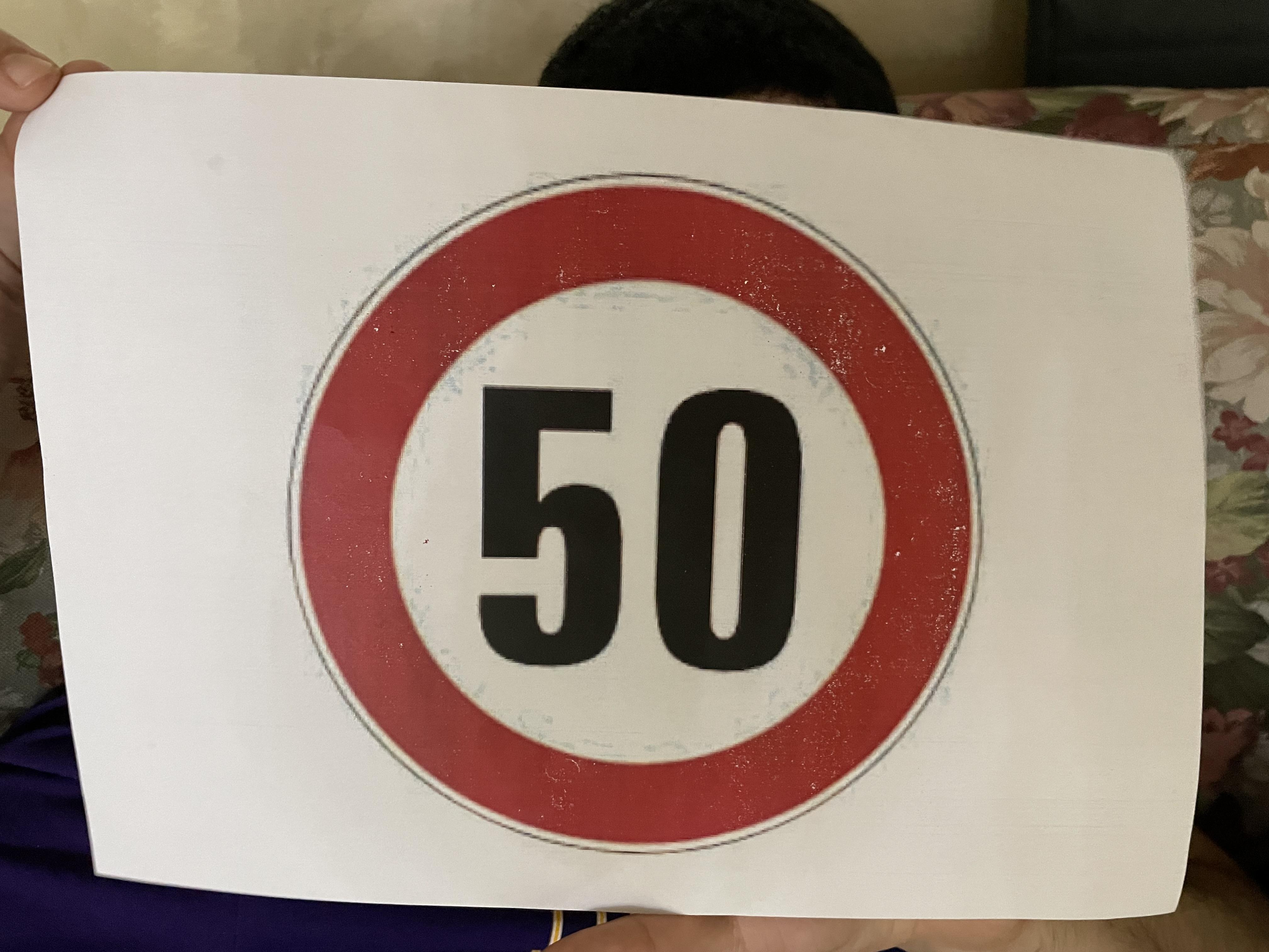50-Speed: (280, 178, 981, 852)
